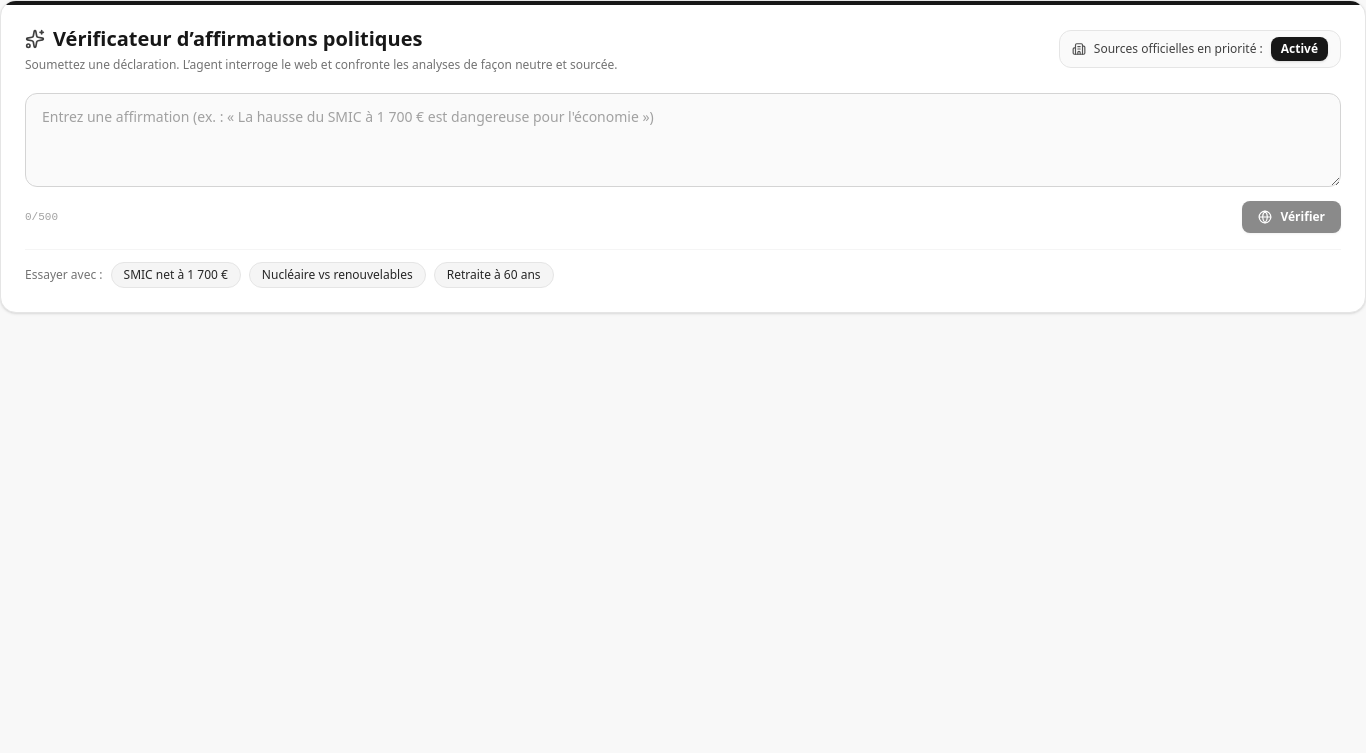
Test: CheckPage › une erreur après un succès garde le dernier résultat lisible et signale l’erreur
In the text box labelled "affirmation": (683, 140) [25,93,1341,187], type "Une affirmation suffisamment longue."
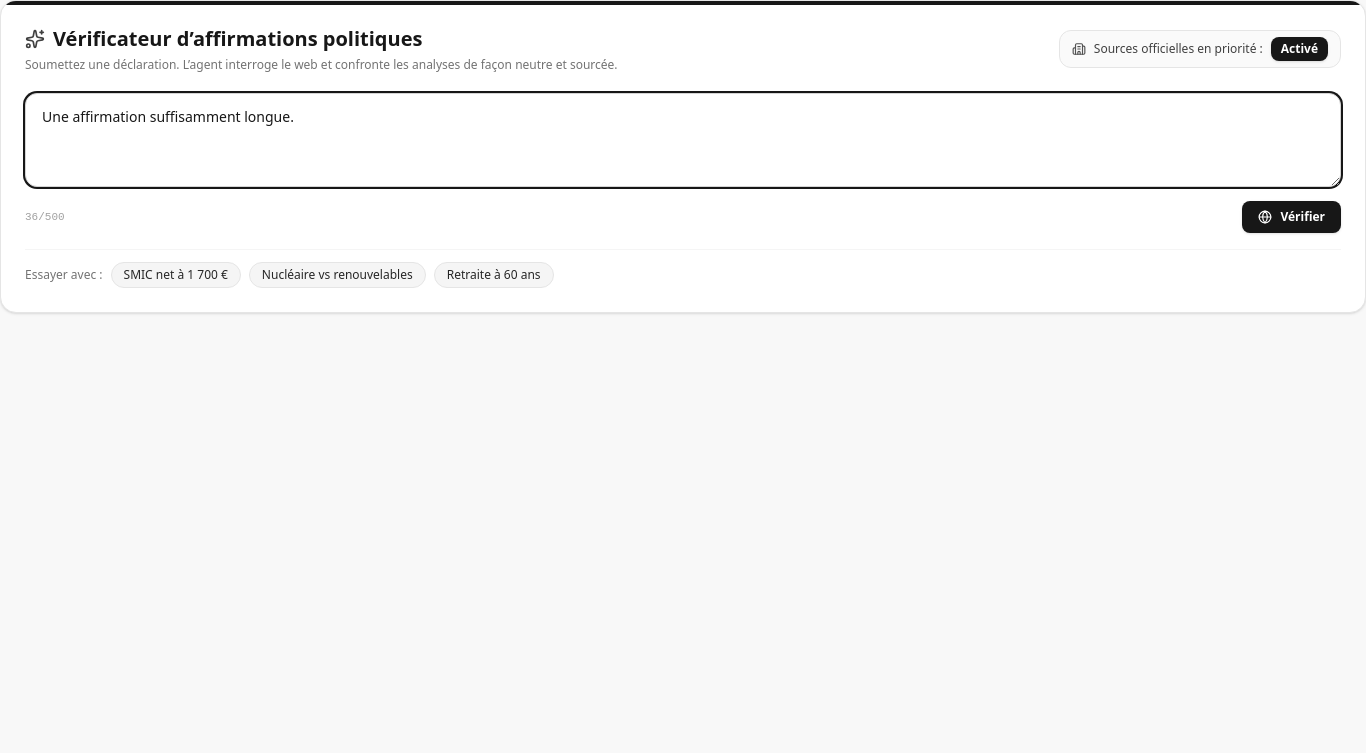
Click the button "Vérifier": (1292, 217) [1242,201,1341,233]
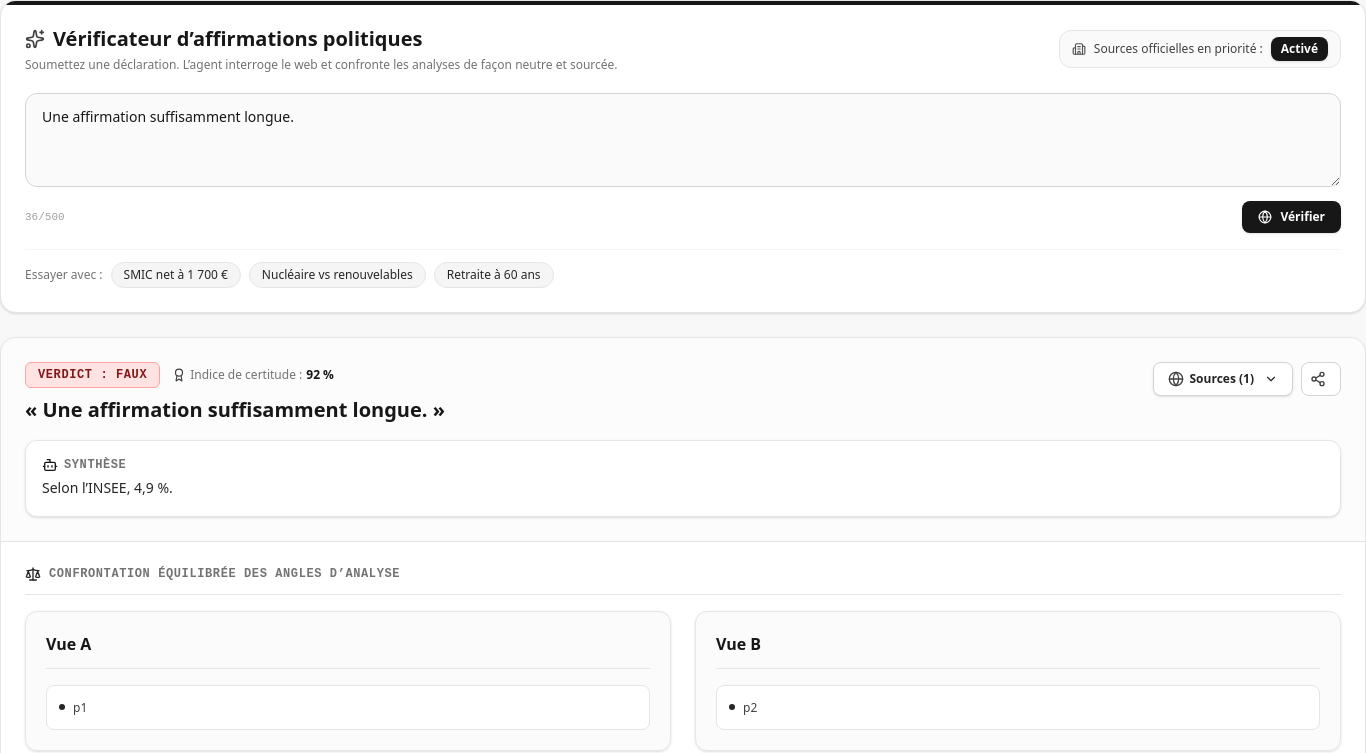
expect the text "Verdict : FAUX" is shown: met, box [25,362,160,388]
Click the button "Vérifier": (1292, 217) [1242,201,1341,233]
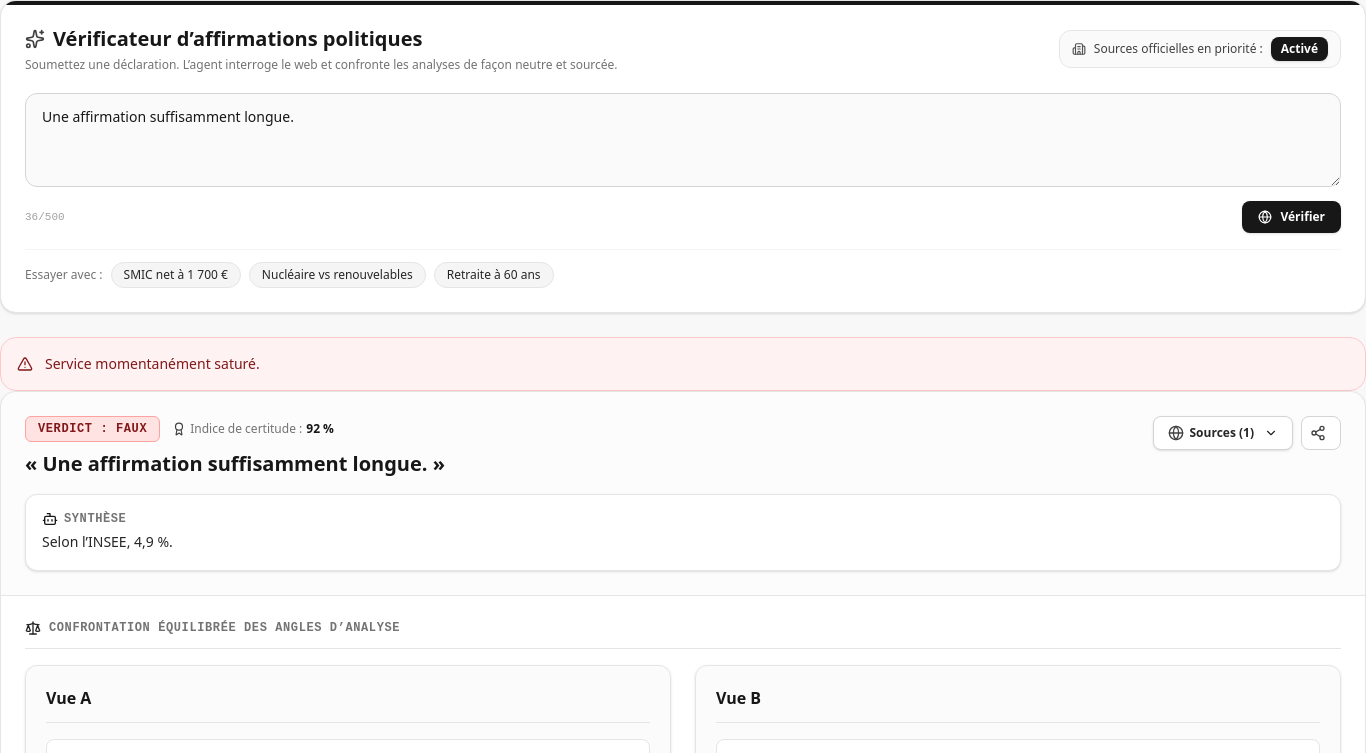
expect the message shows "saturé": met, box [45,354,260,373]
